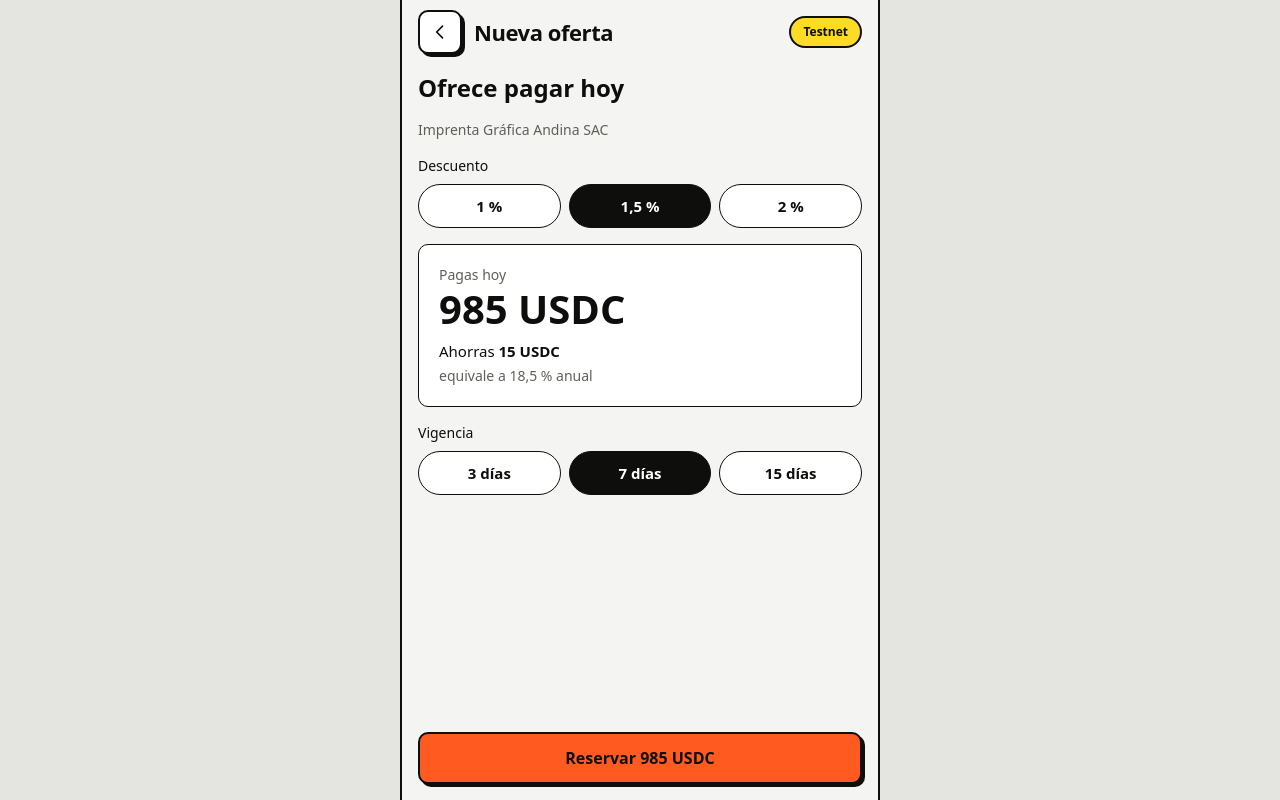
Test case: offer lifecycle through the screens › buyer reserves 985 USDC for 1 000 at 1,5 %; supplier then collects it
The image size is (1280, 800).
Later steps or results of the test are not shown.
Check: the text "equivale a 18,5 % anual" is shown, box 439,366 -> 593,385
Click the button "Reservar 985 USDC" at (640, 758), box 418,732 -> 862,784
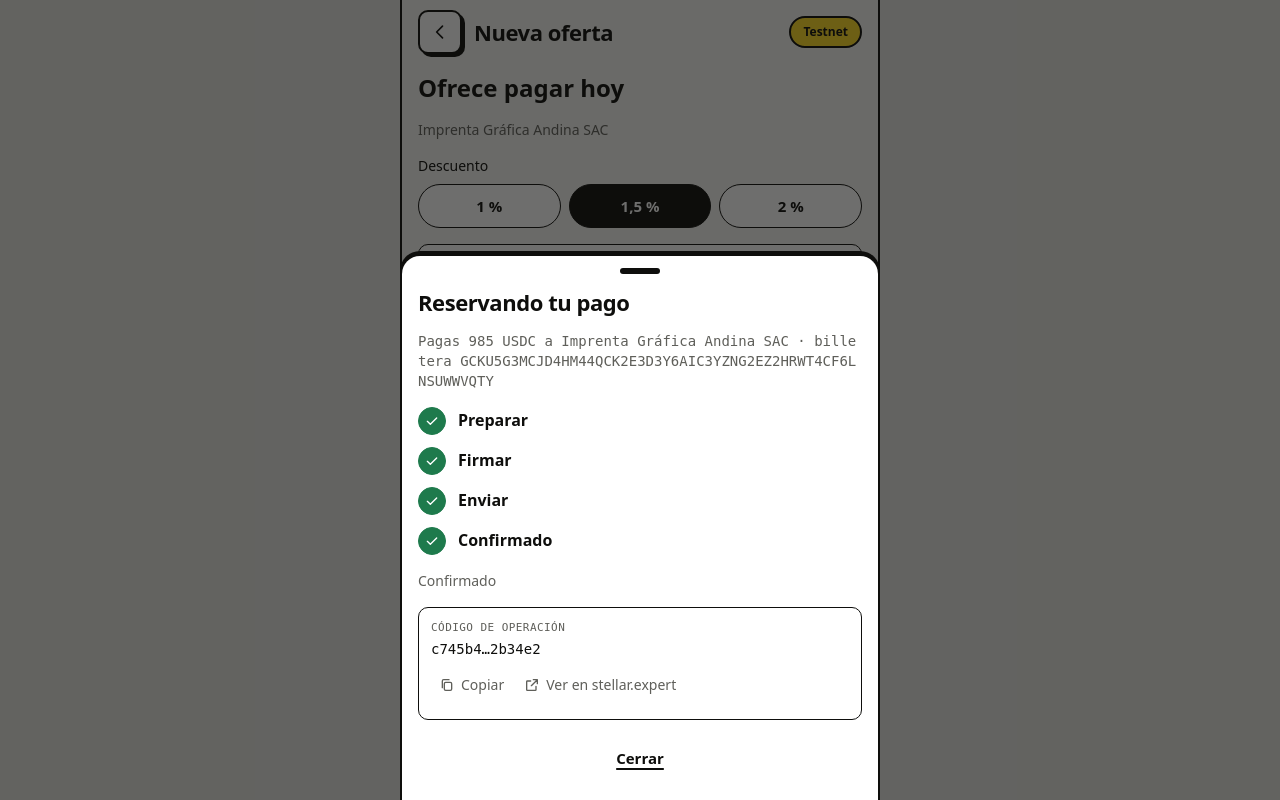
Check: the text "Confirmado" below "Enviar" is shown, box 458,529 -> 552,551
Check: the button "Cerrar" is enabled, box 418,736 -> 862,780
